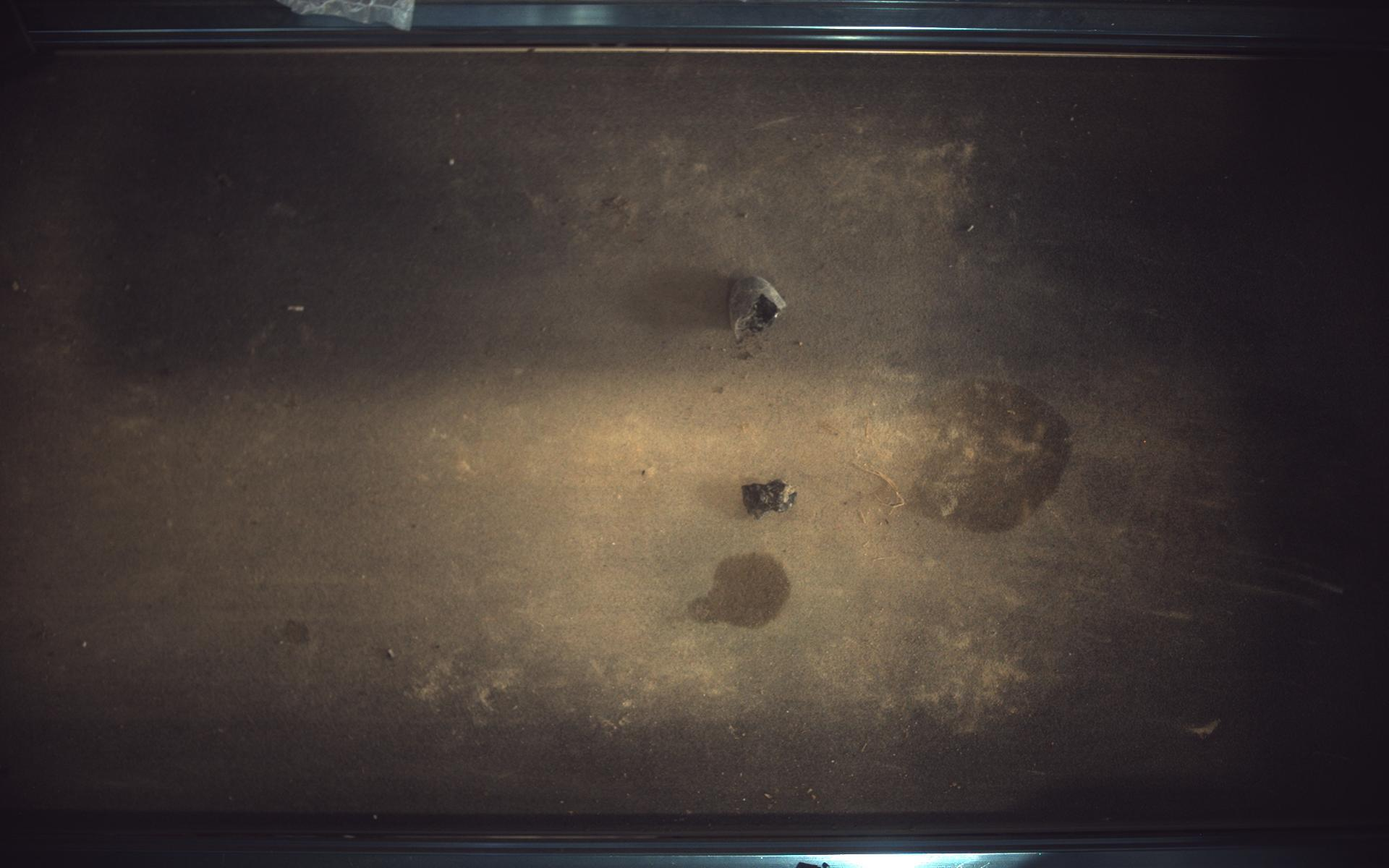stone: (731, 276, 787, 343), (744, 480, 797, 519)
